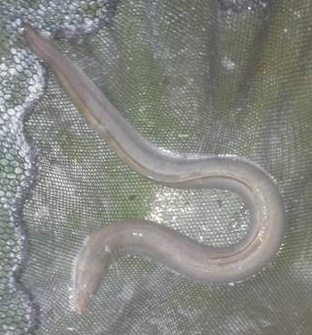Anguilla anguilla: (20, 20, 292, 315)
